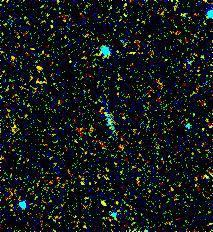star: (29, 52, 59, 82)
